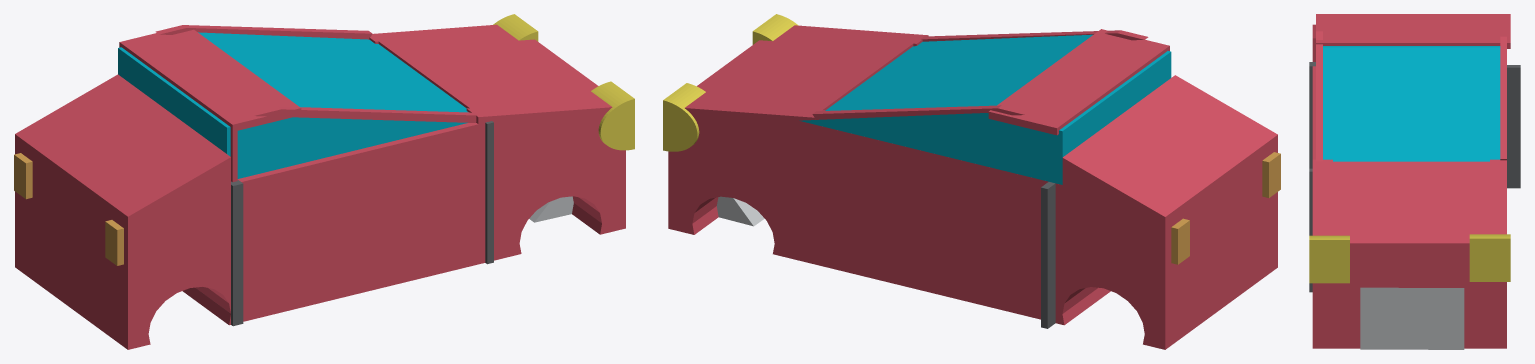
Rendered from car.glb.
The picture shows the model from 3 angles, left to right: view 1: azimuth 30°, elevation 25°; view 2: azimuth 150°, elevation 25°; view 3: azimuth 270°, elevation 25°; orthographic projection. The views are drawn at different scales.
Visible parts, largest first — view 1: Mesh_Mesh_head_geo.001_lambert2SG.001; view 2: Mesh_Mesh_head_geo.001_lambert2SG.001; view 3: Mesh_Mesh_head_geo.001_lambert2SG.001.
Boxes of the visible parts, left/top/right/bottom form: Mesh_Mesh_head_geo.001_lambert2SG.001: left=14, top=14, right=634, bottom=349; Mesh_Mesh_head_geo.001_lambert2SG.001: left=663, top=14, right=1280, bottom=349; Mesh_Mesh_head_geo.001_lambert2SG.001: left=1309, top=14, right=1520, bottom=349.
Bounding box in the file's own units: 149 × 56 × 62.
